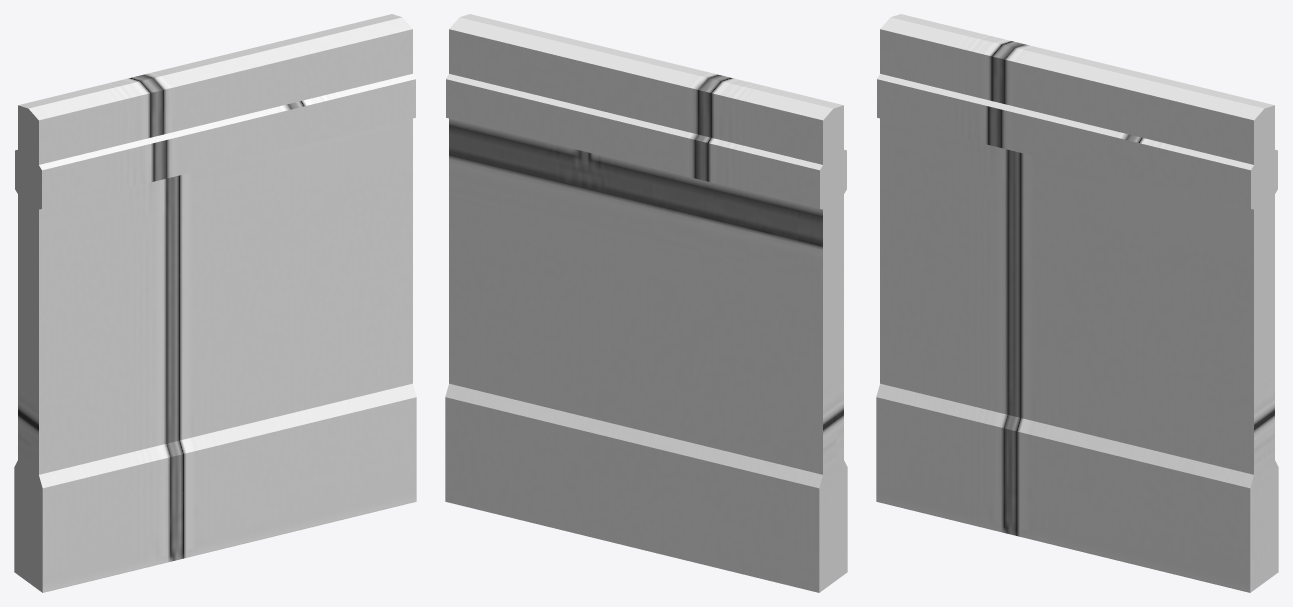
File: Fence.fbx
3 views of the same model, side by side, from view 1: azimuth 30°, elevation 25°; view 2: azimuth 150°, elevation 25°; view 3: azimuth 330°, elevation 25° (orthographic).
Visible parts, largest first — view 1: Fence; view 2: Fence; view 3: Fence.
Boxes of the visible parts, x1,y1,x2,y2 form: Fence: (14, 14, 416, 592); Fence: (445, 14, 847, 592); Fence: (876, 14, 1278, 592).
Size of the model in its own units: 250 by 303 by 32.91.
Materials: 1 (1 with a texture image).
